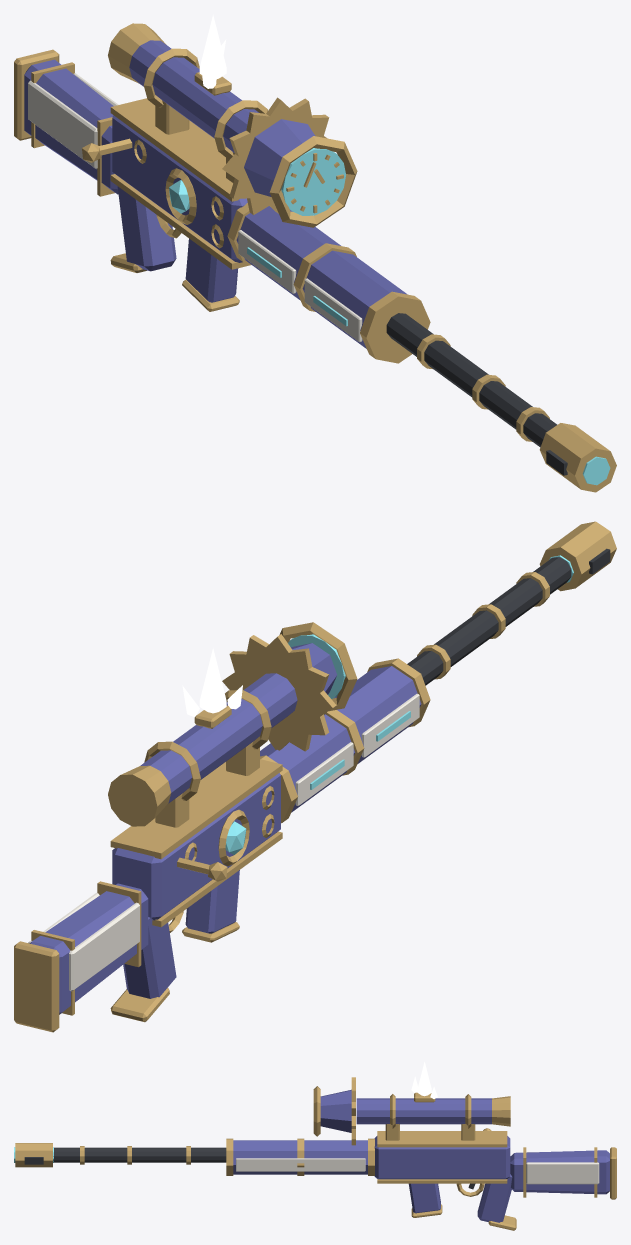
File: Fusil_Zenith.fbx
3 views of the same model, one above another, from view 1: azimuth 30°, elevation 25°; view 2: azimuth 150°, elevation 25°; view 3: azimuth 270°, elevation 25° (orthographic). The views are drawn at different scales.
Parts seen in each view (by area): view 1: Fusil_Zenith_Indigo, Fusil_Zenith_Laiton, Fusil_Zenith_Ivoire, Fusil_Zenith_Metal, Fusil_Zenith_Noyau, Fusil_Zenith_Rouage, Fusil_Zenith_Cristal; view 2: Fusil_Zenith_Laiton, Fusil_Zenith_Indigo, Fusil_Zenith_Rouage, Fusil_Zenith_Ivoire, Fusil_Zenith_Metal, Fusil_Zenith_Noyau, Fusil_Zenith_Cristal; view 3: Fusil_Zenith_Indigo, Fusil_Zenith_Laiton, Fusil_Zenith_Ivoire, Fusil_Zenith_Metal, Fusil_Zenith_Cristal, Fusil_Zenith_Rouage.
Boxes of the visible parts, bbox=[...] form: Fusil_Zenith_Indigo: bbox=[24, 40, 407, 348]; Fusil_Zenith_Laiton: bbox=[14, 23, 616, 492]; Fusil_Zenith_Ivoire: bbox=[28, 73, 362, 342]; Fusil_Zenith_Metal: bbox=[386, 313, 567, 475]; Fusil_Zenith_Noyau: bbox=[169, 148, 610, 485]; Fusil_Zenith_Rouage: bbox=[222, 97, 329, 214]; Fusil_Zenith_Cristal: bbox=[199, 14, 226, 88]; Fusil_Zenith_Laiton: bbox=[14, 521, 616, 1032]; Fusil_Zenith_Indigo: bbox=[29, 643, 421, 1014]; Fusil_Zenith_Rouage: bbox=[222, 634, 336, 751]; Fusil_Zenith_Ivoire: bbox=[28, 693, 419, 991]; Fusil_Zenith_Metal: bbox=[407, 548, 610, 685]; Fusil_Zenith_Noyau: bbox=[225, 555, 573, 854]; Fusil_Zenith_Cristal: bbox=[182, 648, 242, 716]; Fusil_Zenith_Indigo: bbox=[233, 1089, 609, 1222]; Fusil_Zenith_Laiton: bbox=[15, 1086, 616, 1230]; Fusil_Zenith_Ivoire: bbox=[236, 1152, 599, 1184]; Fusil_Zenith_Metal: bbox=[24, 1147, 475, 1189]; Fusil_Zenith_Cristal: bbox=[411, 1062, 437, 1098]; Fusil_Zenith_Rouage: bbox=[351, 1077, 355, 1145].
Size of the model in its own units: 66.47 by 155 by 511.
